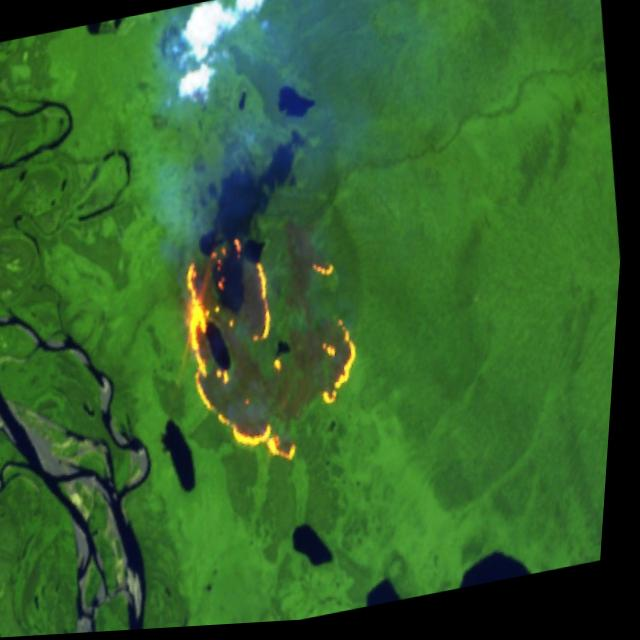fire: (166, 220, 386, 492)
